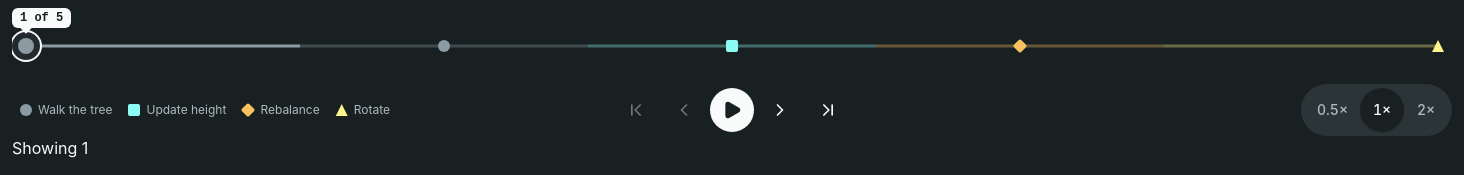
Test case: jumps to a step when its dot is tapped
The width and height of the screenshot is (1464, 175).
Click the button named "Step 4 of 5, Rebalance": [1020, 46] box x1=876 y1=24 x2=1164 y2=68
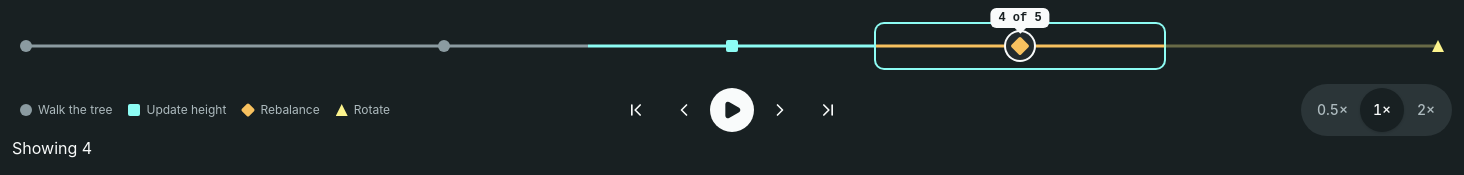
Result: the text "Showing 4" is shown at x1=12 y1=138 x2=92 y2=158
